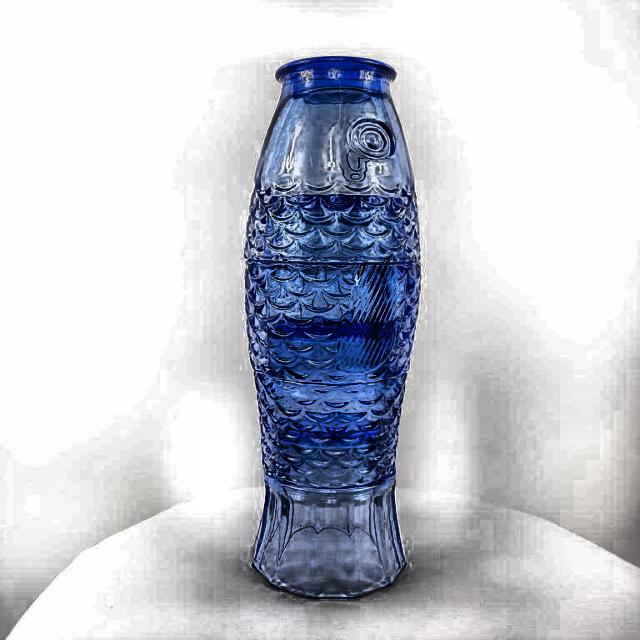Bottles: (166, 34, 486, 638)
